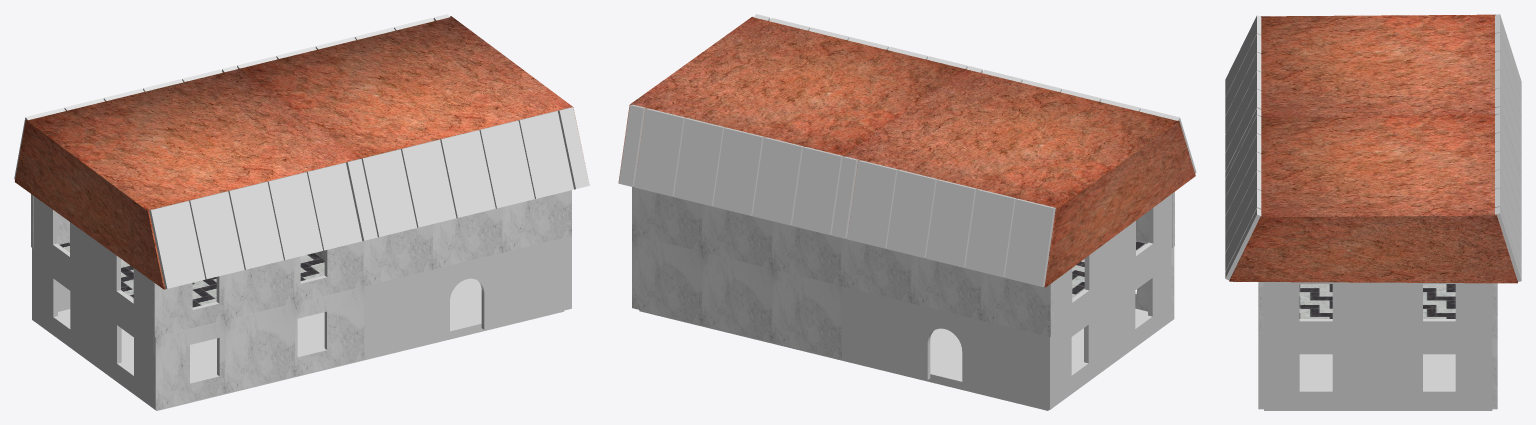
Rendered from Building 4.fbx.
3 views of the same model, side by side, from view 1: azimuth 30°, elevation 25°; view 2: azimuth 150°, elevation 25°; view 3: azimuth 270°, elevation 25° (orthographic). The views are drawn at different scales.
Parts seen in each view (by area): view 1: Roof_1, Roof, Cube_3_15, Back_Wall, Cube_3_19, Cube_3, Cube_2_7, Cube_2_3, Cube_1_4, RoofPanel_2_3, RoofPanel_4_5, RoofPanel_1_2 (+11 smaller); view 2: Roof_1, Roof, Back_Wall_3, Cube_3_11, Back_Wall_1, Back_Wall_1_2, Cube_2_7, Cube_2_3, RoofPanel, RoofPanel_2_4, RoofPanel_3_4, RoofPanel_1 (+10 smaller); view 3: Roof, Roof_1, Cube_2_9, Cube_2_11, Cube_1_4, Cube, RoofPanel_4_2, RoofPanel_4_4, RoofPanel_4_5, RoofPanel_2_2, RoofPanel_2_3, RoofPanel_2_5 (+21 smaller).
Part boxes in pixels (bbox=[...]): Roof_1: bbox=[14, 68, 362, 289]; Roof: bbox=[238, 16, 585, 189]; Cube_3_15: bbox=[364, 236, 571, 359]; Back_Wall: bbox=[153, 286, 364, 410]; Cube_3_19: bbox=[363, 190, 571, 286]; Cube_3: bbox=[152, 241, 363, 337]; Cube_2_7: bbox=[34, 250, 152, 407]; Cube_2_3: bbox=[34, 196, 152, 335]; Cube_1_4: bbox=[58, 278, 564, 410]; RoofPanel_2_3: bbox=[149, 201, 205, 288]; RoofPanel_4_5: bbox=[361, 149, 417, 237]; RoofPanel_1_2: bbox=[228, 181, 283, 269]; Roof_1: bbox=[843, 69, 1195, 287]; Roof: bbox=[618, 16, 965, 186]; Back_Wall_3: bbox=[632, 235, 841, 358]; Cube_3_11: bbox=[841, 286, 1052, 409]; Back_Wall_1: bbox=[841, 238, 1053, 337]; Back_Wall_1_2: bbox=[632, 187, 840, 285]; Cube_2_7: bbox=[1052, 249, 1171, 407]; Cube_2_3: bbox=[1053, 194, 1171, 334]; RoofPanel: bbox=[1004, 198, 1055, 286]; RoofPanel_2_4: bbox=[752, 137, 803, 225]; RoofPanel_3_4: bbox=[792, 147, 843, 234]; RoofPanel_1: bbox=[925, 179, 977, 267]; Roof: bbox=[1229, 114, 1517, 283]; Roof_1: bbox=[1260, 14, 1496, 117]; Cube_2_9: bbox=[1263, 338, 1492, 409]; Cube_2_11: bbox=[1263, 282, 1492, 338]; Cube_1_4: bbox=[1264, 354, 1492, 410]; Cube: bbox=[1299, 284, 1455, 318]; RoofPanel_4_2: bbox=[1225, 89, 1261, 171]; RoofPanel_4_4: bbox=[1225, 189, 1261, 271]; RoofPanel_4_5: bbox=[1225, 115, 1261, 197]; RoofPanel_2_2: bbox=[1225, 34, 1261, 115]; RoofPanel_2_3: bbox=[1225, 15, 1261, 97]; RoofPanel_2_5: bbox=[1225, 134, 1261, 215].
Size of the model in its own units: 1221 by 567 by 761.
3 materials, 3 textured.
